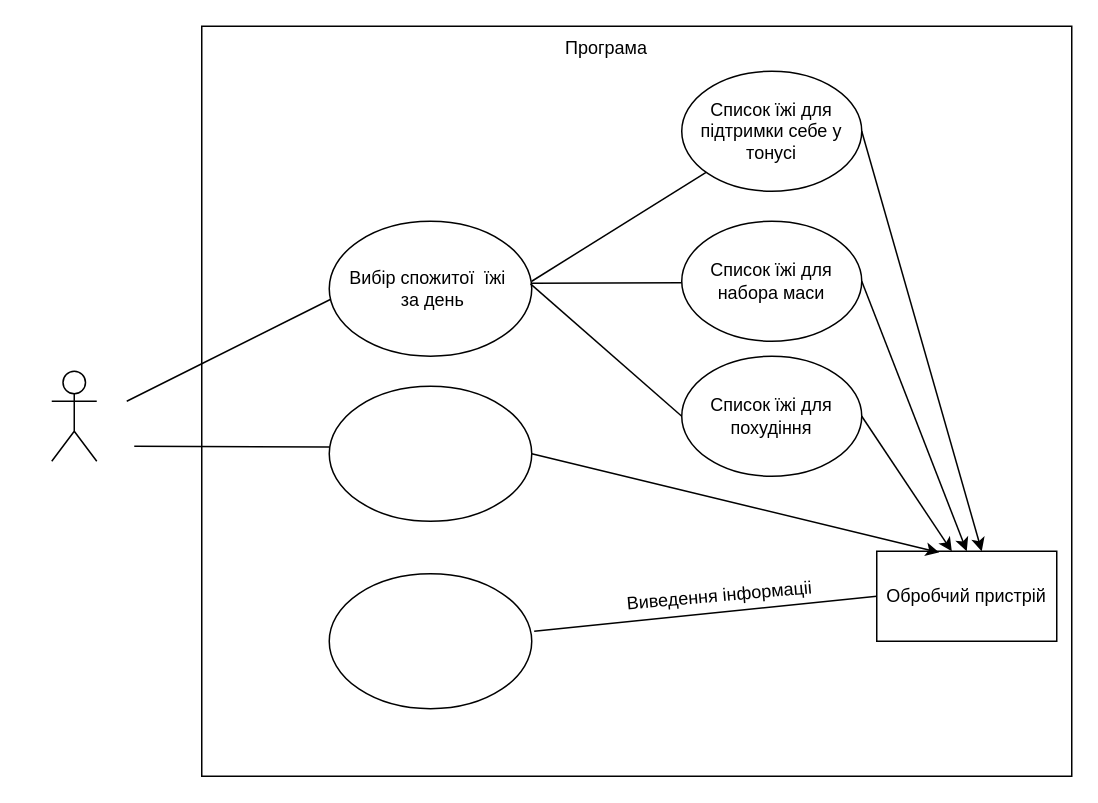
Some shapes in this 1098 by 803 pixel diagram are drawn without their labels. The shapes that lost their labels are listed below. From the top down, each one's box as (x1, y1, x2, y2) in pixels, then its label:
(50, 370, 97, 461): Користувач
(328, 385, 532, 521): Вибір виконаних вправ за день
(328, 572, 532, 709): Підрахунок спожитих та спалених калорій
